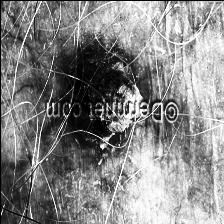Potentially Malignant Skin Tumors: (65, 50, 144, 146)
